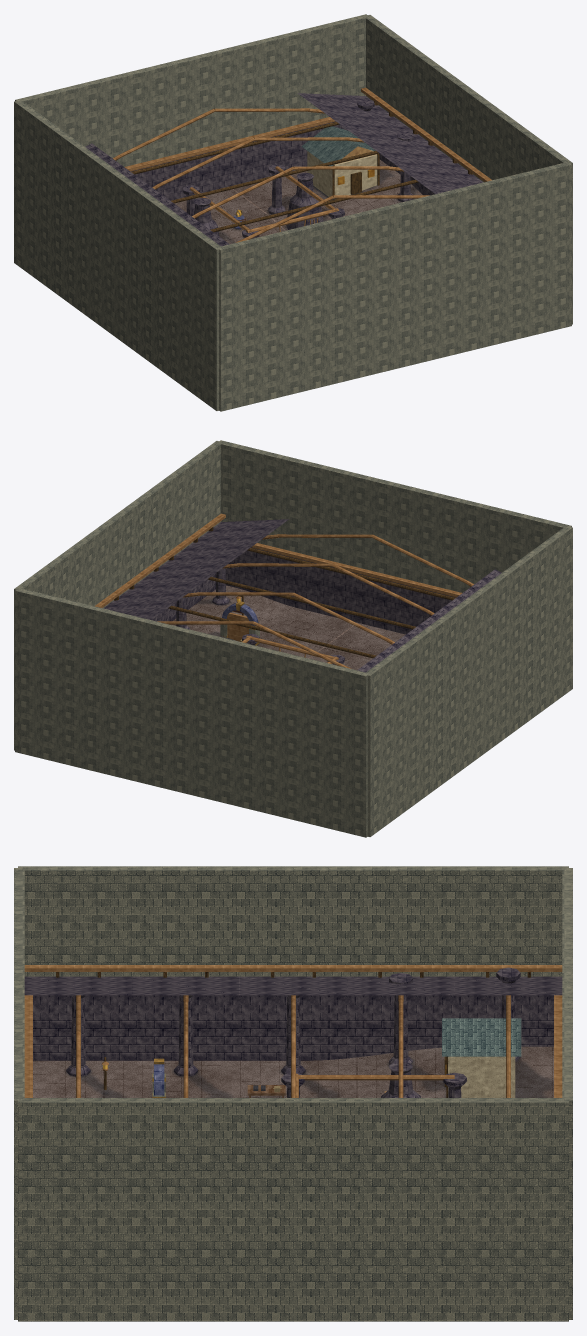
Rendered from CastingBed-7db630793322.glb.
The picture shows the model from 3 angles, top to bottom: view 1: azimuth 30°, elevation 25°; view 2: azimuth 150°, elevation 25°; view 3: azimuth 270°, elevation 25°; orthographic projection. The views are drawn at different scales.
Visible parts, largest first — view 1: C_Solids, Rim, Set, Terrain; view 2: C_Solids, Rim, Terrain, Set; view 3: C_Solids, Rim, Terrain, Set.
Boxes of the visible parts, x1,y1,x2,y2 form: C_Solids: (14,14,572,411); Rim: (85,87,491,246); Set: (182,99,413,238); Terrain: (174,159,422,244); C_Solids: (14,440,572,837); Rim: (95,513,501,672); Terrain: (170,585,405,670); Set: (175,568,344,664); C_Solids: (14,866,572,1321); Rim: (24,965,562,1097); Terrain: (33,1046,553,1097); Set: (66,967,521,1097).
Bounding box in the file's own units: 41.6 × 18 × 41.6.
15 materials, 15 textured.
